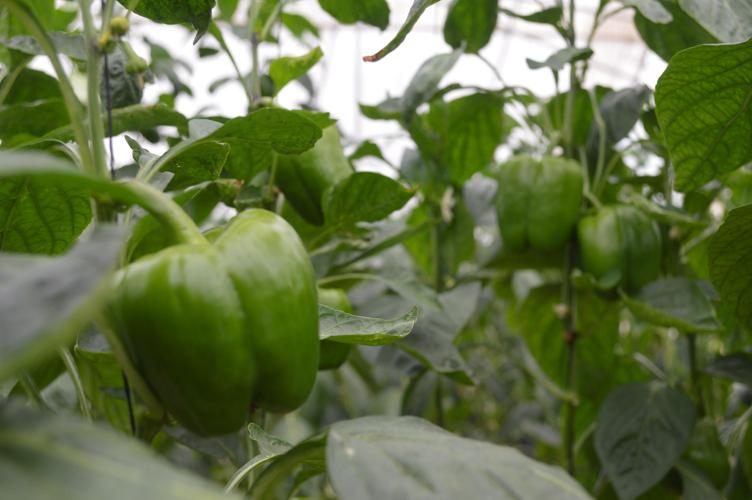BellPepper: (112, 237, 315, 409), (482, 151, 586, 271), (570, 198, 679, 307), (265, 123, 380, 220)
